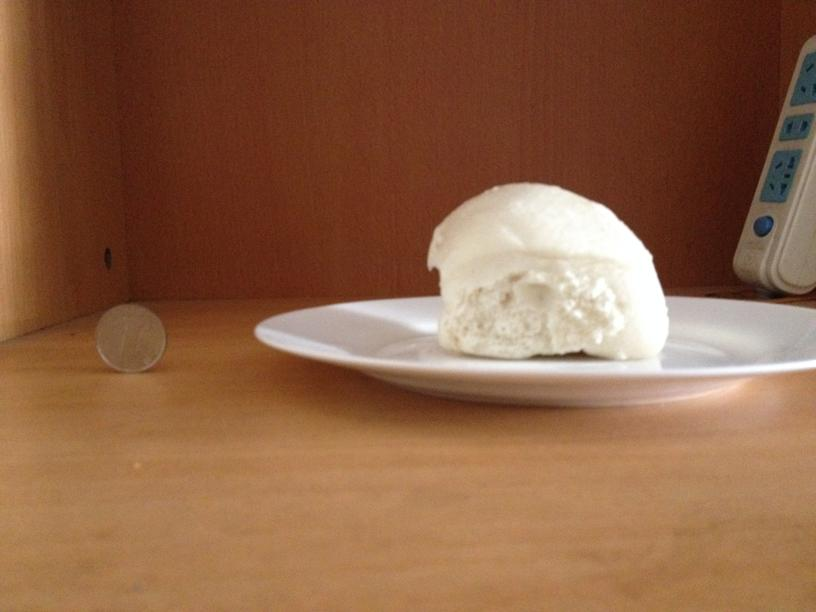bun: (430, 182, 670, 359)
coin: (94, 304, 166, 374)
